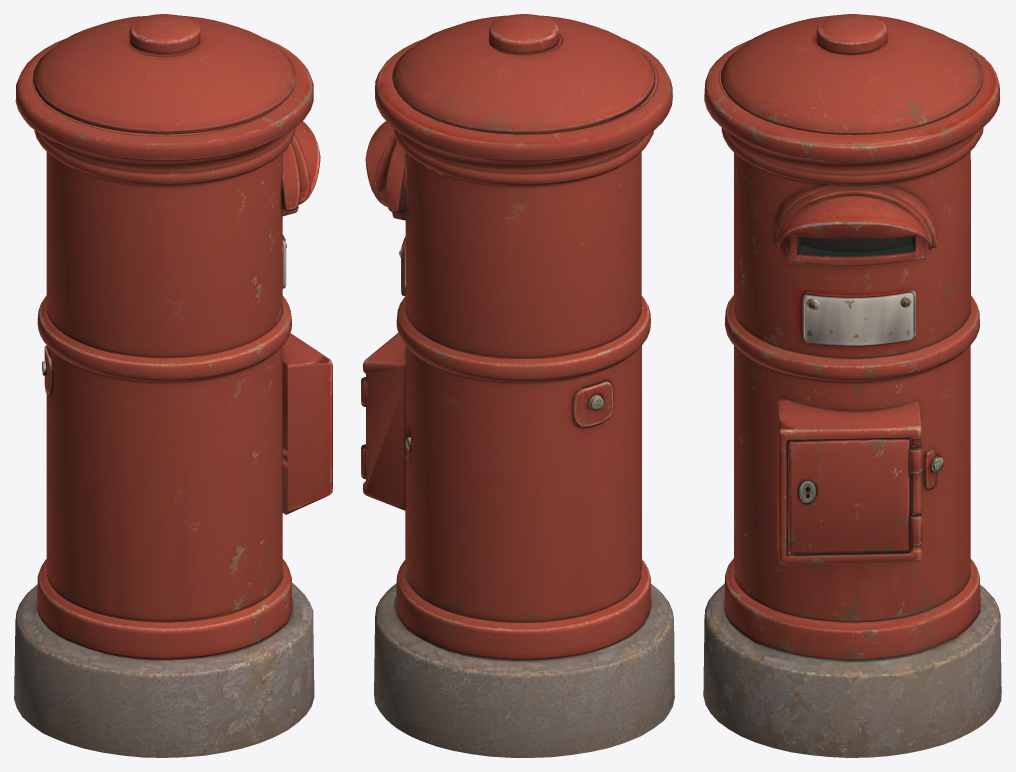
File: postbox.glb
3 renders of one model, left to right at view 1: azimuth 30°, elevation 25°; view 2: azimuth 150°, elevation 25°; view 3: azimuth 270°, elevation 25°, orthographic.
Visible parts, largest first — view 1: tripo_node_5d1b22a6-a6f0-46c6-b532-fe2621f8cee6; view 2: tripo_node_5d1b22a6-a6f0-46c6-b532-fe2621f8cee6; view 3: tripo_node_5d1b22a6-a6f0-46c6-b532-fe2621f8cee6.
Part boxes in pixels (<box>): tripo_node_5d1b22a6-a6f0-46c6-b532-fe2621f8cee6: <box>14,14,332,757</box>; tripo_node_5d1b22a6-a6f0-46c6-b532-fe2621f8cee6: <box>361,14,674,757</box>; tripo_node_5d1b22a6-a6f0-46c6-b532-fe2621f8cee6: <box>703,14,1001,757</box>.
Size of the model in its own units: 0.4204 by 0.9995 by 0.4019.
Materials: 1 (1 with a texture image).
